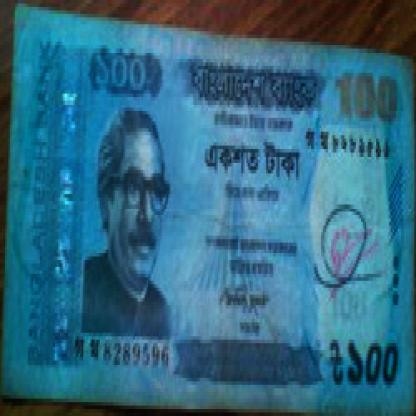one hundred taka: (78, 42, 162, 111), (328, 73, 406, 146), (343, 323, 411, 396)
